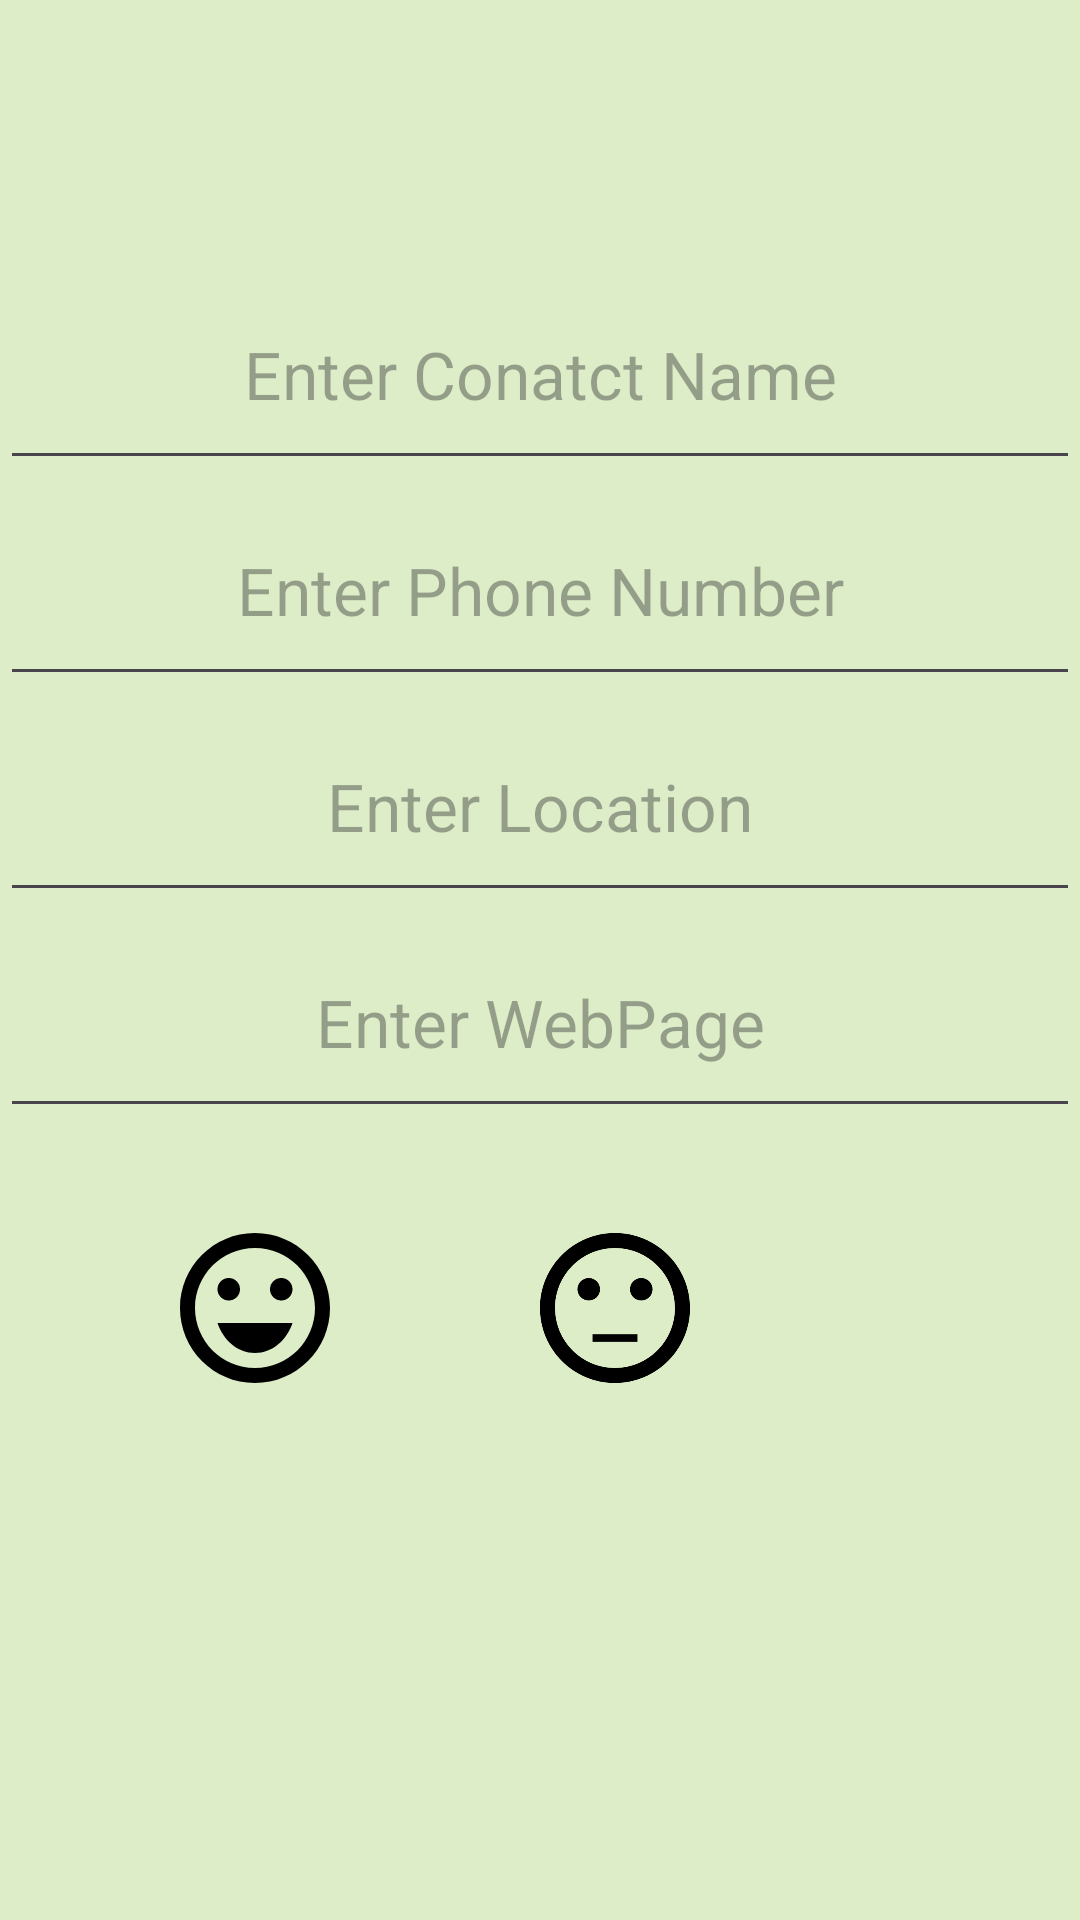

Where icons sit on this 1080x1920 app screen, as (x1, y1, x2, y2):
happy: (180, 1233, 330, 1383)
ok: (540, 1233, 690, 1383)
